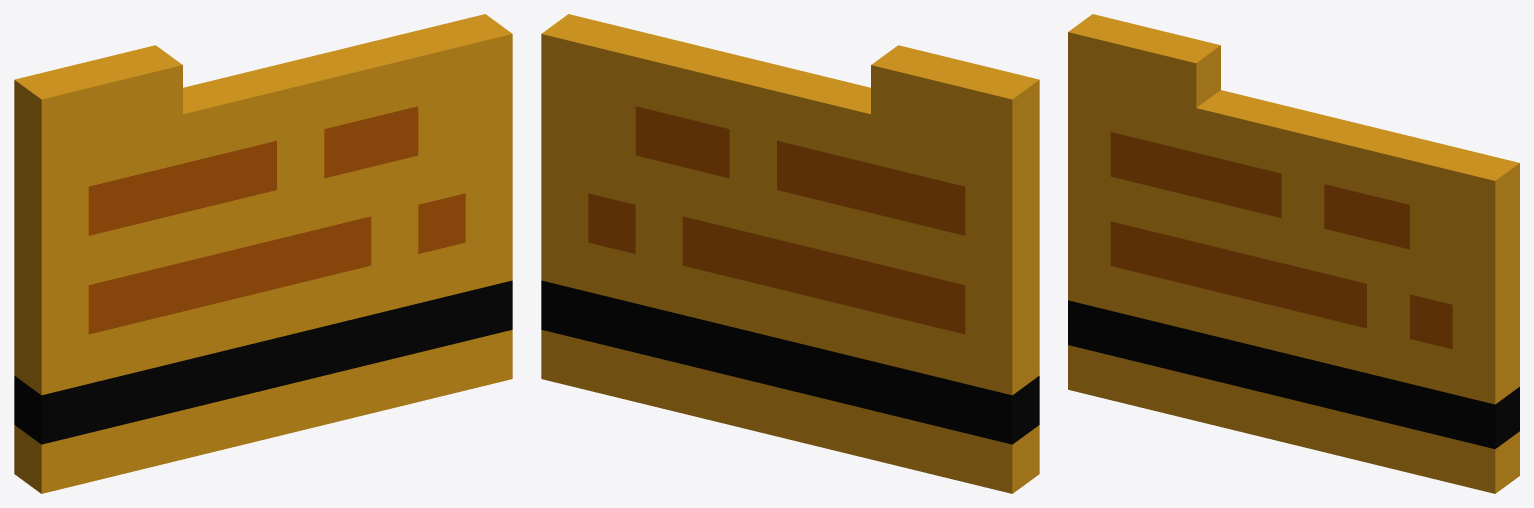
The model's file is Keycard.obj.
The picture shows the model from 3 angles, left to right: view 1: azimuth 30°, elevation 25°; view 2: azimuth 150°, elevation 25°; view 3: azimuth 330°, elevation 25°; orthographic projection. The views are drawn at different scales.
Size of the model in its own units: 1 by 0.8 by 0.1.
1 material, 1 textured.
